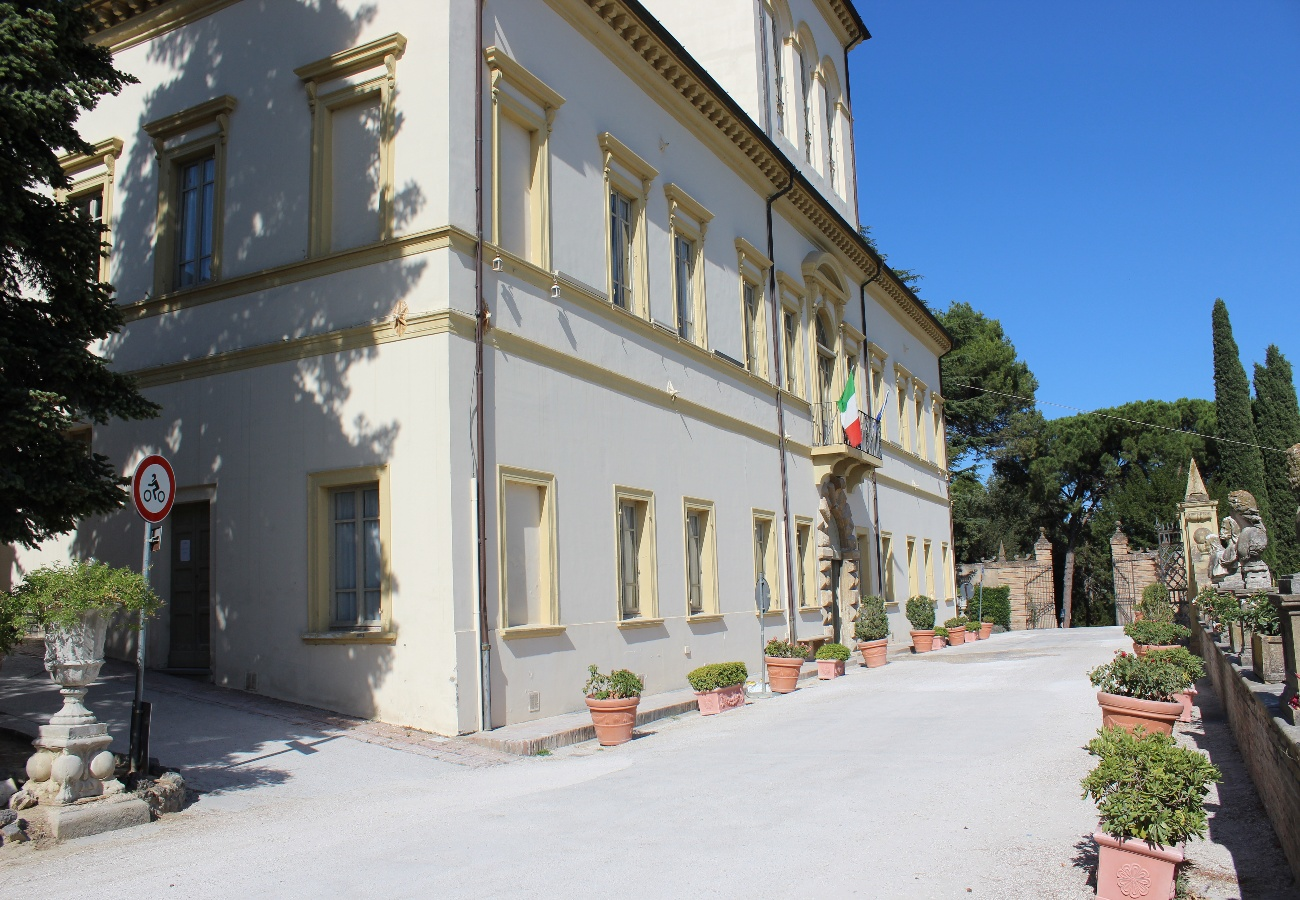Villa Caprile: (443, 1, 966, 740)
